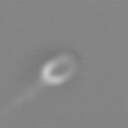normal: (1, 79, 43, 128)
